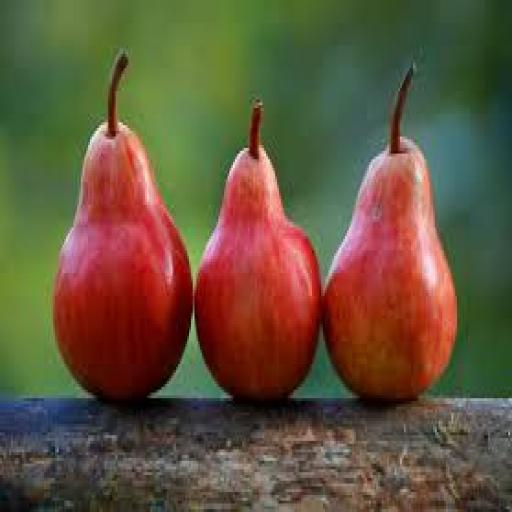Pear: (54, 55, 192, 401), (323, 69, 456, 401), (195, 103, 321, 401)
